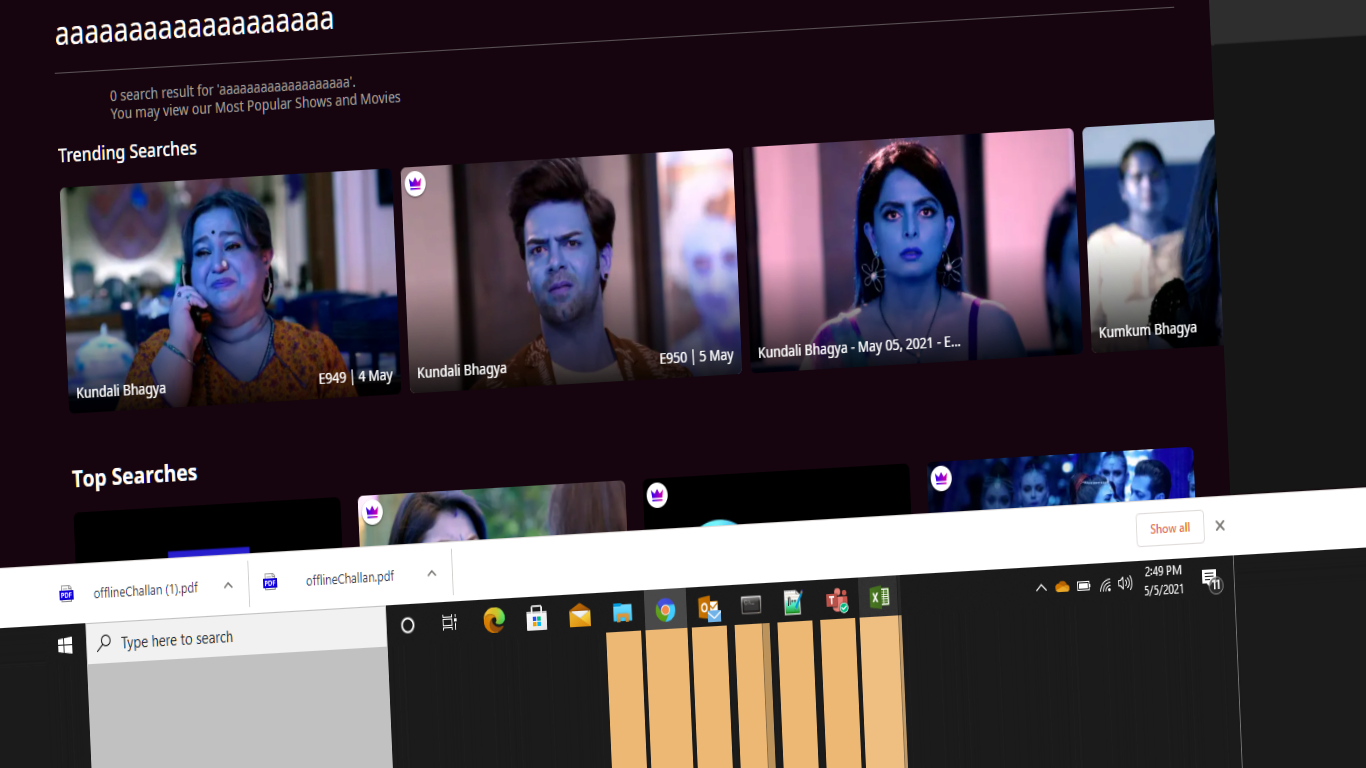noresultsfound: (89, 72, 433, 135)
searchtextbox: (49, 5, 1160, 74)
